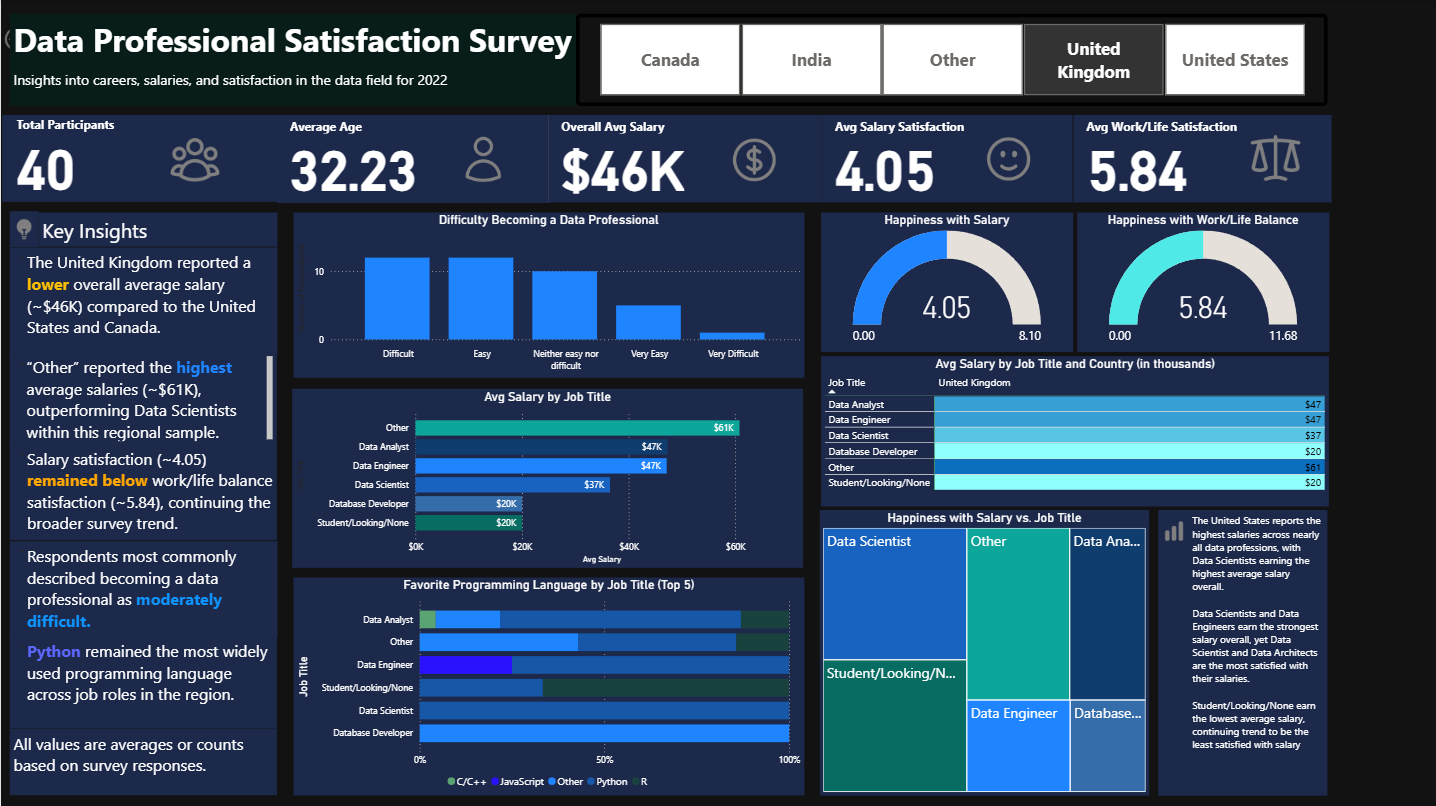

What the dashboard file says about the page in this screenshot:
{"tool":"powerbi","page":{"name":"United Kingdom","canvas":[1920,1080],"ordinal":2},"visuals":[{"type":"cardVisual","fields":{"Data":["Data Professional Survey.Total Participants"]},"box":[1.6,153.9,371,115.8],"z":0,"group":"g6"},{"type":"group","id":"g1","title":"Group 3","box":[369.2,153.9,363.7,117.6],"z":0},{"type":"cardVisual","fields":{"Data":["Data Professional Survey.Average Age"]},"box":[369.2,153.9,363.7,117.6],"z":1000,"group":"g1"},{"type":"image","box":[178.2,170.2,161,84.5],"z":1000,"group":"g6"},{"type":"gauge","fields":{"Y":["Data Professional Survey.Avg Salary Satisfaction"]},"box":[1094.8,284.1,336.6,186.4],"z":1000},{"type":"group","id":"g2","title":"Group 4","box":[732.1,153.9,365.6,117.1],"z":2000},{"type":"cardVisual","fields":{"Data":["Data Professional Survey.Overall Avg Salary"]},"box":[732.1,153.9,365.6,117.1],"z":2000,"group":"g2"},{"type":"gauge","fields":{"Y":["Data Professional Survey.Avg WorkLife Satisfaction"]},"box":[1436.9,284.1,336.6,186.4],"z":3000},{"type":"group","id":"g3","title":"Group 5","box":[1097.7,153.9,334.5,117.1],"z":4000},{"type":"actionButton","box":[0,31,100,41],"z":5000},{"type":"cardVisual","fields":{"Data":["Data Professional Survey.Avg Salary Satisfaction"]},"box":[1097.7,153.9,334.5,117.1],"z":6000,"group":"g3"},{"type":"group","id":"g4","title":"Group 6","box":[1432.2,153.9,344.9,117.1],"z":6000},{"type":"pivotTable","title":"Avg Salary by Job Title and Country (in thousands)","fields":{"Rows":["Data Professional Survey.Job Title"],"Columns":["Data Professional Survey.Country"],"Values":["Avg(Data Professional Survey.Average Salary)"]},"box":[1094.8,475.9,678.6,200.9],"z":7000},{"type":"treemap","title":"Happiness with Salary vs. Job Title","fields":{"Values":["Avg(Data Professional Survey.Q6 - How Happy are you in your Current Position with the following? (Salary))"],"Group":["Data Professional Survey.Job Title"]},"box":[1093.2,680.5,440.2,381.5],"z":8000},{"type":"cardVisual","fields":{"Data":["Data Professional Survey.Avg WorkLife Satisfaction"]},"box":[1432.2,153.9,344.9,117.1],"z":9000,"group":"g4"},{"type":"textbox","box":[49.5,284.3,319.2,45.9],"z":9000},{"type":"barChart","title":"Avg Salary by Job Title","fields":{"Category":["Data Professional Survey.Job Title"],"Y":["Data Professional Survey.Overall Avg Salary"],"Series":["Data Professional Survey.Job Title"]},"box":[389.1,519.4,682.2,238.9],"z":10000},{"type":"clusteredColumnChart","title":"Difficulty Becoming a Data Professional","fields":{"Category":["Data Professional Survey.Q7 - How difficult was it for you to break into Data?"],"Y":["CountNonNull(Data Professional Survey.Unique ID)"]},"box":[390.9,284.1,682.2,220.8],"z":11000},{"type":"hundredPercentStackedBarChart","title":"Favorite Programming Language by Job Title (Top 5)","fields":{"Series":["Data Professional Survey.Q5 - Favorite Programming Language.1"],"Category":["Data Professional Survey.Job Title"],"Y":["CountNonNull(Data Professional Survey.Unique ID)"]},"box":[390.9,770.9,682.2,291.4],"z":12000},{"type":"textbox","box":[10.9,850.5,356.5,123.1],"z":13000},{"type":"textbox","box":[10.9,470.5,356.5,123.1],"z":14000},{"type":"textbox","box":[1546.3,680.5,225.6,381.5],"z":14000,"group":"g5"},{"type":"textbox","box":[10.9,18.1,756.4,70.6],"z":15000},{"type":"textbox","box":[10.9,88.7,756.4,52.5],"z":16000},{"type":"slicer","fields":{"Values":["Data Professional Survey.Country"]},"box":[767.3,18.1,1004.4,123.1],"z":17000},{"type":"textbox","box":[11,330.2,357.7,143.1],"z":18000},{"type":"textbox","box":[10.9,593.6,356.5,128.5],"z":19000},{"type":"textbox","box":[11,722.7,357.7,128.4],"z":20000},{"type":"textbox","box":[10.9,973.6,356.5,88.7],"z":21000},{"type":"image","box":[11,282.5,38.5,47.7],"z":22000},{"type":"group","id":"g5","title":"Group 1","box":[1546.3,680.5,225.6,381.5],"z":23000},{"type":"group","id":"g6","title":"Group 2","box":[1.6,153.9,371,115.8],"z":24000},{"type":"image","box":[583.4,174.7,123.4,79],"z":25000,"group":"g1"},{"type":"image","box":[937.5,173.2,139.4,79.9],"z":26000,"group":"g2"},{"type":"image","box":[1286.1,171.9,121.1,81.3],"z":27000,"group":"g3"},{"type":"image","box":[1641.9,169.2,119.2,85.3],"z":28000,"group":"g4"},{"type":"image","box":[1546.3,685.8,42.2,46.4],"z":30000,"group":"g5"}]}

Visuals, with their boxes in screenshot pixels (x1, y1, x2, y2), scaled from the page's 1920x1080 canvas onto the 1436x806 screenshot:
cardVisual - Data Professional Survey.Total Participants: Rect(1, 115, 279, 201)
"Group 3" group: Rect(276, 115, 548, 203)
cardVisual - Data Professional Survey.Average Age: Rect(276, 115, 548, 203)
image: Rect(133, 127, 254, 190)
gauge - Data Professional Survey.Avg Salary Satisfaction: Rect(819, 212, 1071, 351)
"Group 4" group: Rect(548, 115, 821, 202)
cardVisual - Data Professional Survey.Overall Avg Salary: Rect(548, 115, 821, 202)
gauge - Data Professional Survey.Avg WorkLife Satisfaction: Rect(1075, 212, 1326, 351)
"Group 5" group: Rect(821, 115, 1071, 202)
actionButton: Rect(0, 23, 75, 54)
cardVisual - Data Professional Survey.Avg Salary Satisfaction: Rect(821, 115, 1071, 202)
"Group 6" group: Rect(1071, 115, 1329, 202)
"Avg Salary by Job Title and Country (in thousands)" pivotTable: Rect(819, 355, 1326, 505)
"Happiness with Salary vs. Job Title" treemap: Rect(818, 508, 1147, 793)
cardVisual - Data Professional Survey.Avg WorkLife Satisfaction: Rect(1071, 115, 1329, 202)
textbox: Rect(37, 212, 276, 246)
"Avg Salary by Job Title" barChart: Rect(291, 388, 801, 566)
"Difficulty Becoming a Data Professional" clusteredColumnChart: Rect(292, 212, 803, 377)
"Favorite Programming Language by Job Title (Top 5)" hundredPercentStackedBarChart: Rect(292, 575, 803, 793)
textbox: Rect(8, 635, 275, 727)
textbox: Rect(8, 351, 275, 443)
textbox: Rect(1157, 508, 1325, 793)
textbox: Rect(8, 14, 574, 66)
textbox: Rect(8, 66, 574, 105)
slicer - Data Professional Survey.Country: Rect(574, 14, 1325, 105)
textbox: Rect(8, 246, 276, 353)
textbox: Rect(8, 443, 275, 539)
textbox: Rect(8, 539, 276, 635)
textbox: Rect(8, 727, 275, 793)
image: Rect(8, 211, 37, 246)
"Group 1" group: Rect(1157, 508, 1325, 793)
"Group 2" group: Rect(1, 115, 279, 201)
image: Rect(436, 130, 529, 189)
image: Rect(701, 129, 805, 189)
image: Rect(962, 128, 1052, 189)
image: Rect(1228, 126, 1317, 190)
image: Rect(1157, 512, 1188, 546)
